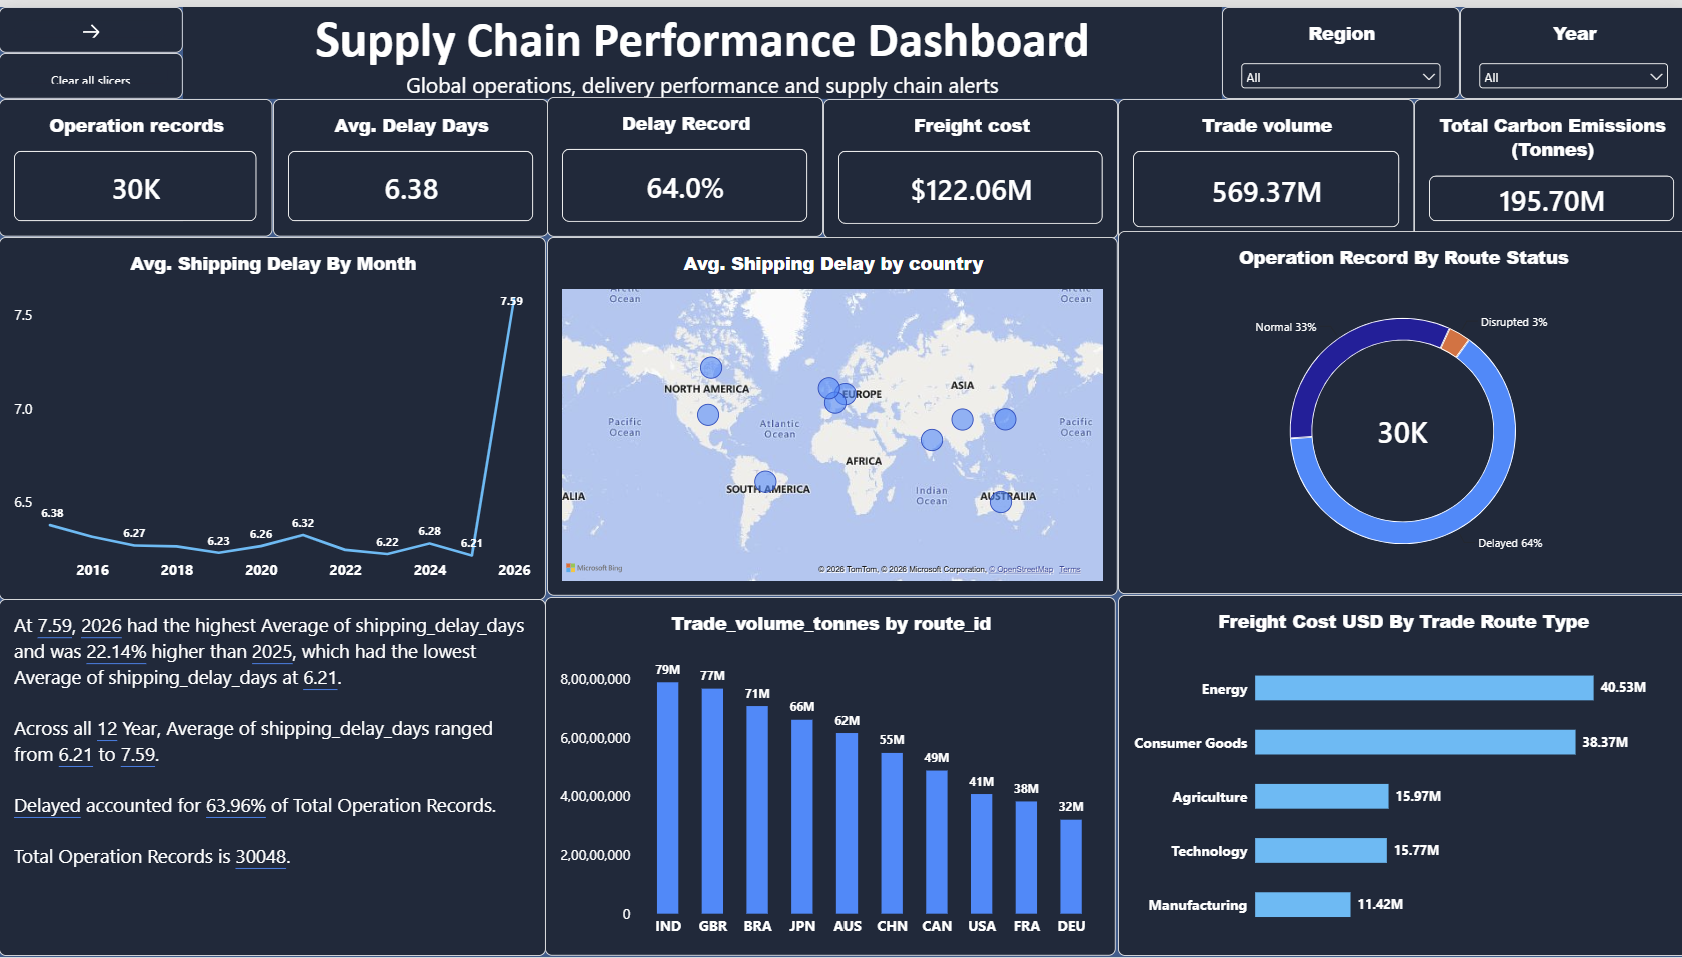

Layout of this report page (visuals, bound fields, positions):
{"tool":"powerbi","page":{"name":"Executive Control Tower","canvas":[1920,1080],"ordinal":0},"visuals":[{"type":"textbox","box":[209.3,0,1180.7,104.6],"z":0},{"type":"cardVisual","title":"Operation records","fields":{"Data":["_Measures.Total Operation Records"]},"box":[0,104.4,310.9,156.6],"z":1000},{"type":"cardVisual","title":"Avg. Delay Days","fields":{"Data":["Avg(fact_route_operation.shipping_delay_days)"]},"box":[310.9,104.4,313.3,156.6],"z":2000},{"type":"cardVisual","title":"Delay Record ","fields":{"Data":["_Measures.Delayed Record %"]},"box":[624.2,102.1,313.9,159.2],"z":3000},{"type":"cardVisual","title":"Freight cost","fields":{"Data":["_Measures.Total Freight Cost (USD)"]},"box":[937.5,104.4,334.6,159],"z":4000},{"type":"cardVisual","title":"Trade volume","fields":{"Data":["_Measures.Total Trade Volume (Tonnes)"]},"box":[1272.1,104.4,337,163.8],"z":5000},{"type":"cardVisual","title":"Total Carbon Emissions (Tonnes)","fields":{"Data":["_Measures.Total Carbon Emissions (Tonnes)"]},"box":[1609.1,104.4,313.3,156.6],"z":6000},{"type":"lineChart","title":"Avg. Shipping Delay By Month","fields":{"Category":["weekly_timeline.Year"],"Y":["Avg(fact_route_operation.shipping_delay_days)"]},"box":[0,261.1,621.8,413],"z":7000},{"type":"donutChart","title":"Operation Record By Route Status","fields":{"Category":["fact_route_operation.route_status"],"Y":["_Measures.Total Operation Records"]},"box":[1272.1,253.9,647.9,413],"z":8000},{"type":"clusteredBarChart","title":"Freight Cost USD By Trade Route Type","fields":{"Category":["dim_trade_route.trade_route_type"],"Y":["Sum(fact_route_operation.freight_cost_usd)"]},"box":[1272.1,669.3,647.9,410.6],"z":9000},{"type":"clusteredColumnChart","title":"Trade_volume_tonnes by route_id","fields":{"Category":["dim_origin_country.iso3"],"Y":["Sum(fact_route_operation.trade_volume_tonnes)"]},"box":[621.8,671.6,647.9,408.2],"z":10000},{"type":"map","title":"Avg. Shipping Delay by country","fields":{"Category":["dim_origin_country.country"],"Size":["_Measures.Average Shipping Delay"]},"box":[624.2,261.1,648,408],"z":11000},{"type":"slicer","title":"Region","fields":{"Values":["dim_origin_country.region"]},"box":[1390.8,0,270.6,104.4],"z":12000},{"type":"slicer","title":"Year","fields":{"Values":["weekly_timeline.Fiscal Year "]},"box":[1661.3,0,258.7,104.4],"z":13000},{"type":"actionButton","box":[0,0,208.9,52.2],"z":14000},{"type":"actionButton","box":[0,52.2,208.9,52.2],"z":15000},{"type":"textbox","box":[0,674,621.8,405.8],"z":16001}]}

Visuals, with their boxes in screenshot pixels (x1, y1, x2, y2), scaled from the page's 1920x1080 canvas onto the 1682x958 screenshot:
textbox: {"x1": 183, "y1": 0, "x2": 1218, "y2": 93}
"Operation records" cardVisual: {"x1": 0, "y1": 93, "x2": 272, "y2": 232}
"Avg. Delay Days" cardVisual: {"x1": 272, "y1": 93, "x2": 547, "y2": 232}
"Delay Record " cardVisual: {"x1": 547, "y1": 91, "x2": 822, "y2": 232}
"Freight cost" cardVisual: {"x1": 821, "y1": 93, "x2": 1114, "y2": 234}
"Trade volume" cardVisual: {"x1": 1114, "y1": 93, "x2": 1410, "y2": 238}
"Total Carbon Emissions (Tonnes)" cardVisual: {"x1": 1410, "y1": 93, "x2": 1681, "y2": 232}
"Avg. Shipping Delay By Month" lineChart: {"x1": 0, "y1": 232, "x2": 545, "y2": 598}
"Operation Record By Route Status" donutChart: {"x1": 1114, "y1": 225, "x2": 1681, "y2": 592}
"Freight Cost USD By Trade Route Type" clusteredBarChart: {"x1": 1114, "y1": 594, "x2": 1681, "y2": 957}
"Trade_volume_tonnes by route_id" clusteredColumnChart: {"x1": 545, "y1": 596, "x2": 1112, "y2": 957}
"Avg. Shipping Delay by country" map: {"x1": 547, "y1": 232, "x2": 1115, "y2": 594}
"Region" slicer: {"x1": 1218, "y1": 0, "x2": 1455, "y2": 93}
"Year" slicer: {"x1": 1455, "y1": 0, "x2": 1681, "y2": 93}
actionButton: {"x1": 0, "y1": 0, "x2": 183, "y2": 46}
actionButton: {"x1": 0, "y1": 46, "x2": 183, "y2": 93}
textbox: {"x1": 0, "y1": 598, "x2": 545, "y2": 957}
